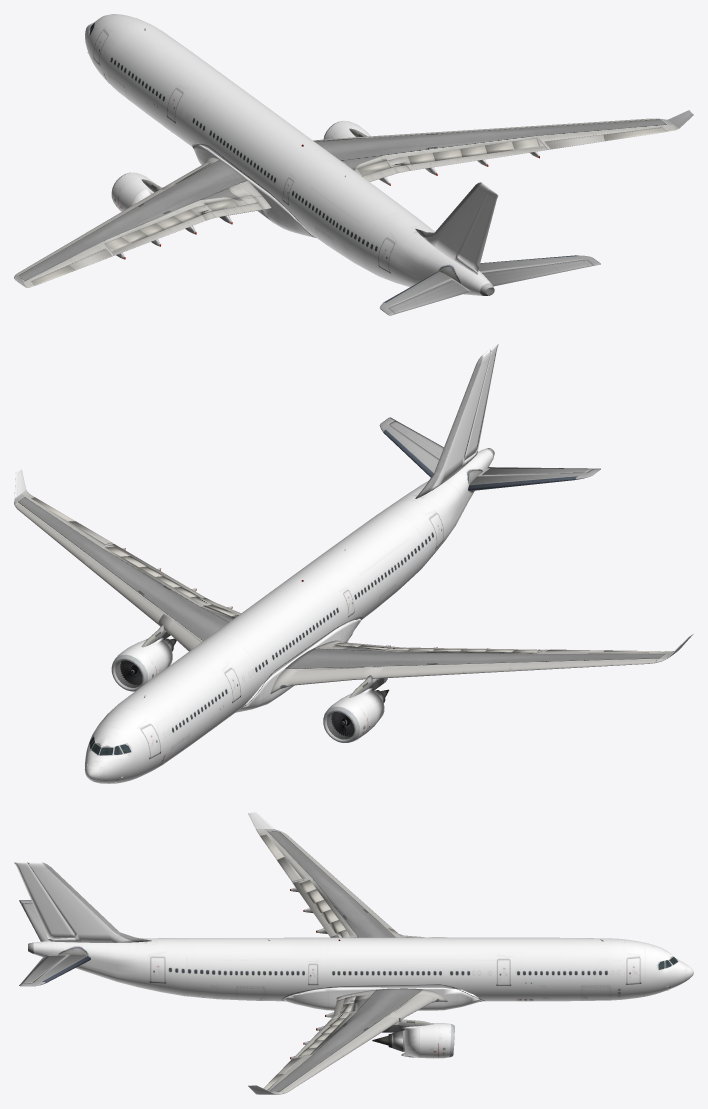
The picture shows the model from 3 angles, top to bottom: view 1: azimuth 30°, elevation 25°; view 2: azimuth 150°, elevation 25°; view 3: azimuth 270°, elevation 25°; orthographic projection. The views are drawn at different scales.
Visible parts, largest first — view 1: rootNode; view 2: rootNode; view 3: rootNode.
Part boxes in pixels (x1,y1,x2,y2): rootNode: [14, 14, 693, 315]; rootNode: [14, 344, 693, 783]; rootNode: [14, 812, 693, 1094].
Size of the model in its own units: 59.91 by 15.52 by 63.05.
Materials: 19 (15 with a texture image).
